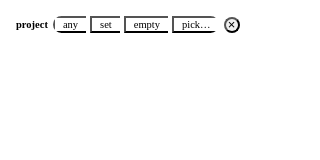
Test case: TC-2: clicking pick… opens ReferenceAutocomplete (requireCandidate) › opens the autocomplete when pick… is clicked
Click the button "pick…" at (195, 24), box [172,16,219,33]
Wait 300 ms
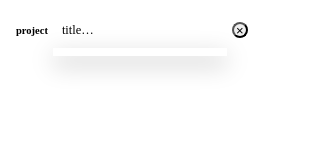
Now the field is shown, box [53,16,245,44]
